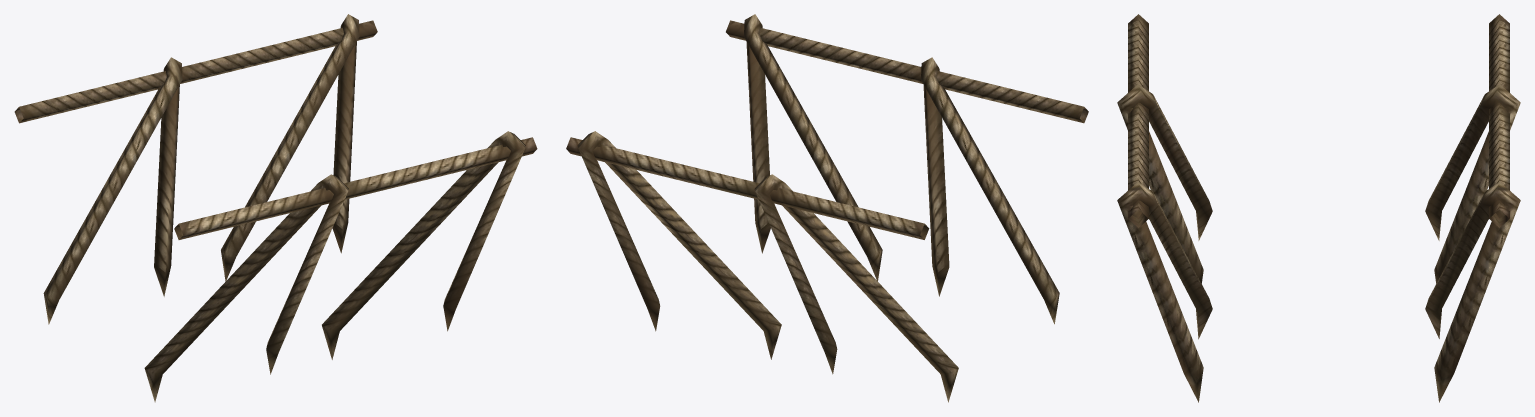
The model's file is rope_bridge_bar_2.fbx.
3 renders of one model, left to right at view 1: azimuth 30°, elevation 25°; view 2: azimuth 150°, elevation 25°; view 3: azimuth 270°, elevation 25°, orthographic. The views are drawn at different scales.
Visible parts, largest first — view 1: rope_bridge_bar_2; view 2: rope_bridge_bar_2; view 3: rope_bridge_bar_2.
Boxes of the visible parts, x1=… form: rope_bridge_bar_2: x1=14, y1=14, x2=537, y2=402; rope_bridge_bar_2: x1=566, y1=14, x2=1088, y2=402; rope_bridge_bar_2: x1=1117, y1=14, x2=1520, y2=402.
Bounding box in the file's own units: 202 × 115 × 175.
